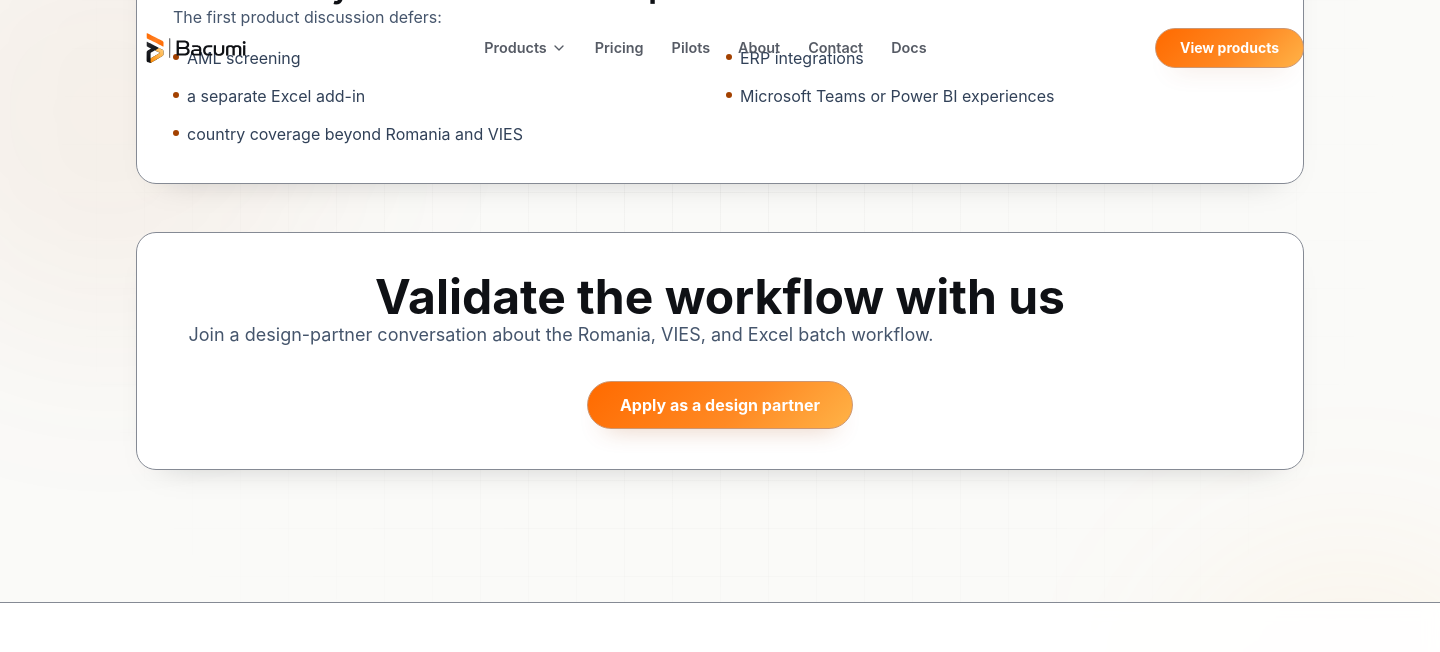
product contact calls to action › preselects the matching program from the final /products/company-verify CTA
(page scrolled)
Click the link "Apply as a design partner" at (720, 405), box [587,381,853,429]
(page scrolled)
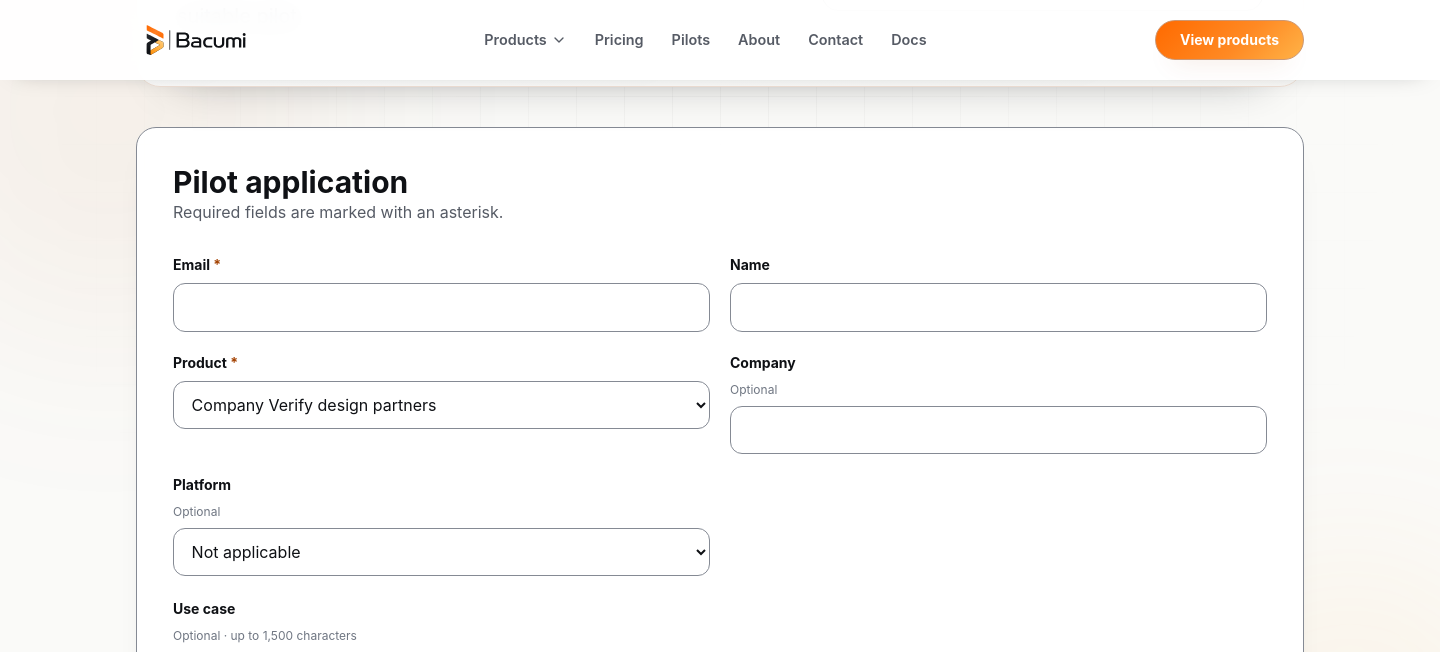
expect the dropdown labelled "Product" shows "Company Verify design partners": met, box [173,381,710,429]
